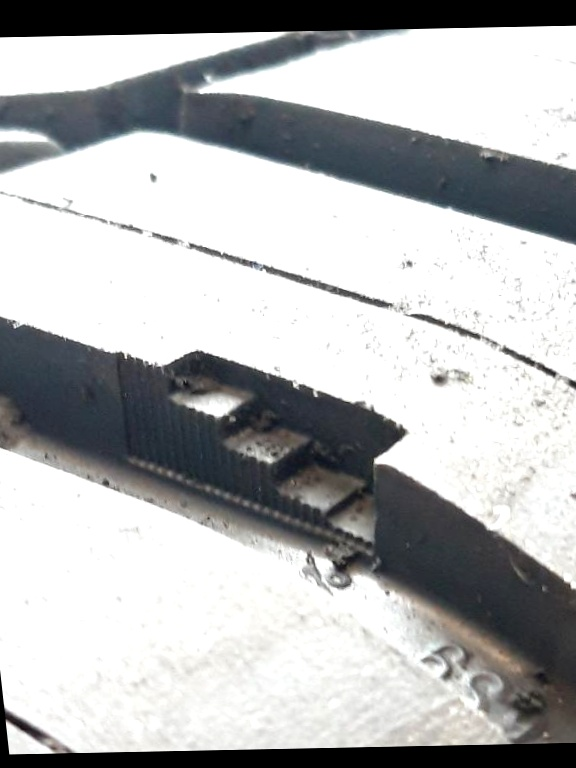temoin:95: (100, 327, 436, 581)
